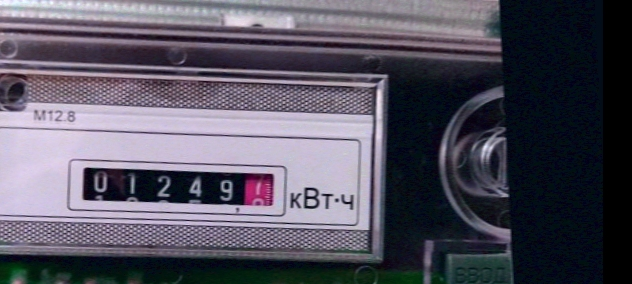0: (90, 166, 108, 193)
1: (122, 168, 137, 194)
2: (152, 172, 171, 199)
4: (185, 172, 203, 197)
7: (249, 169, 266, 196)
9: (215, 175, 233, 202)
screen: (62, 145, 290, 229)
